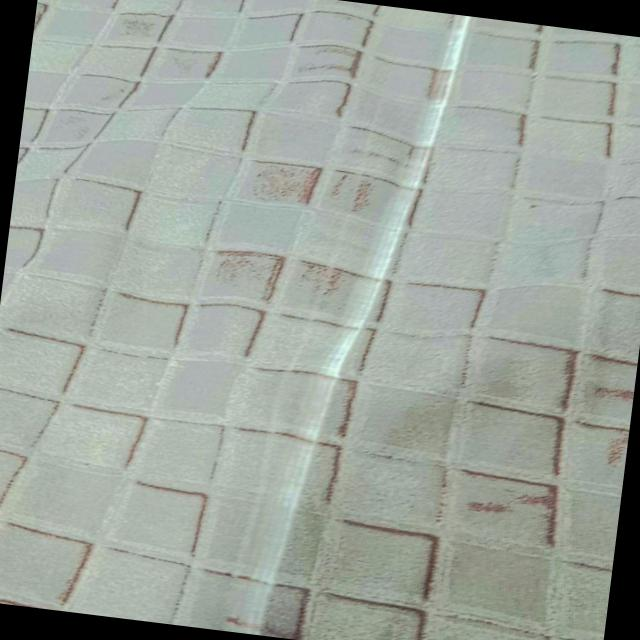selvet: (230, 0, 480, 640)
